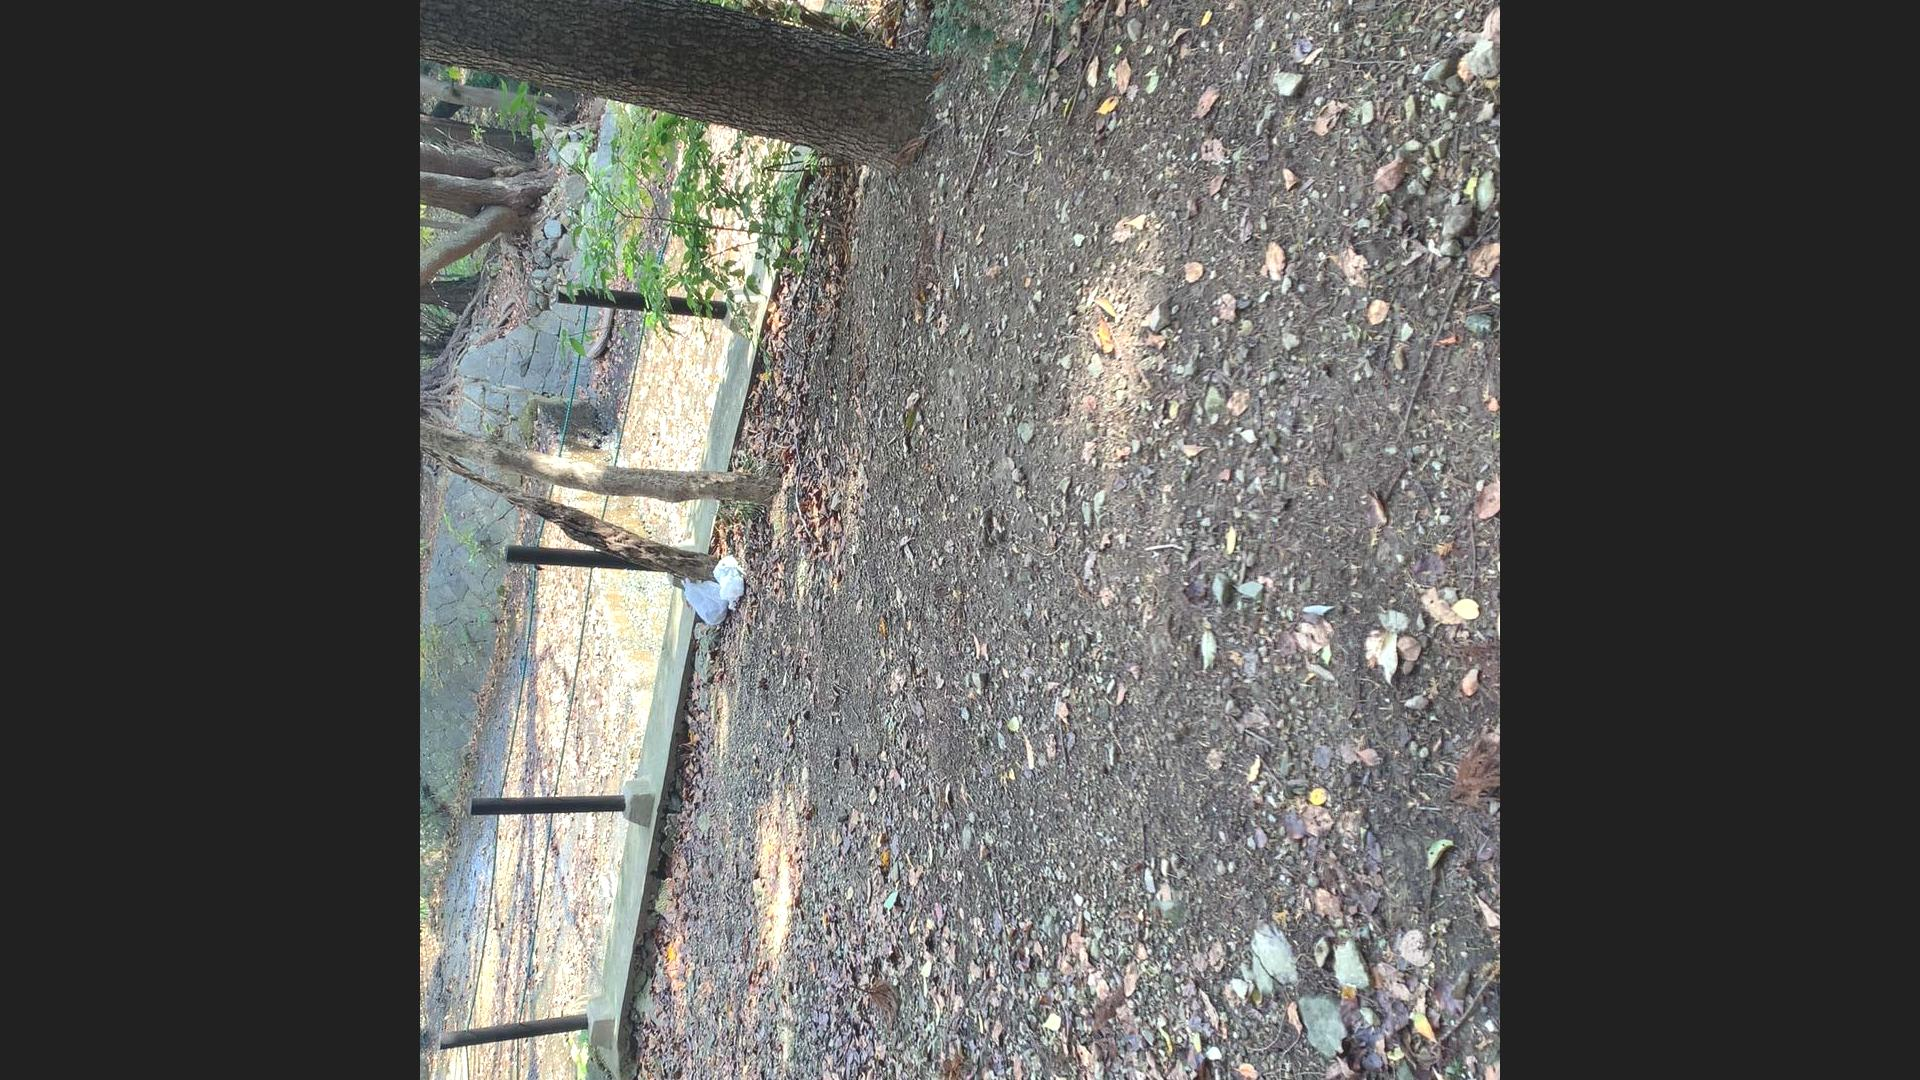white_bag: (678, 576, 729, 630), (709, 553, 745, 613)
